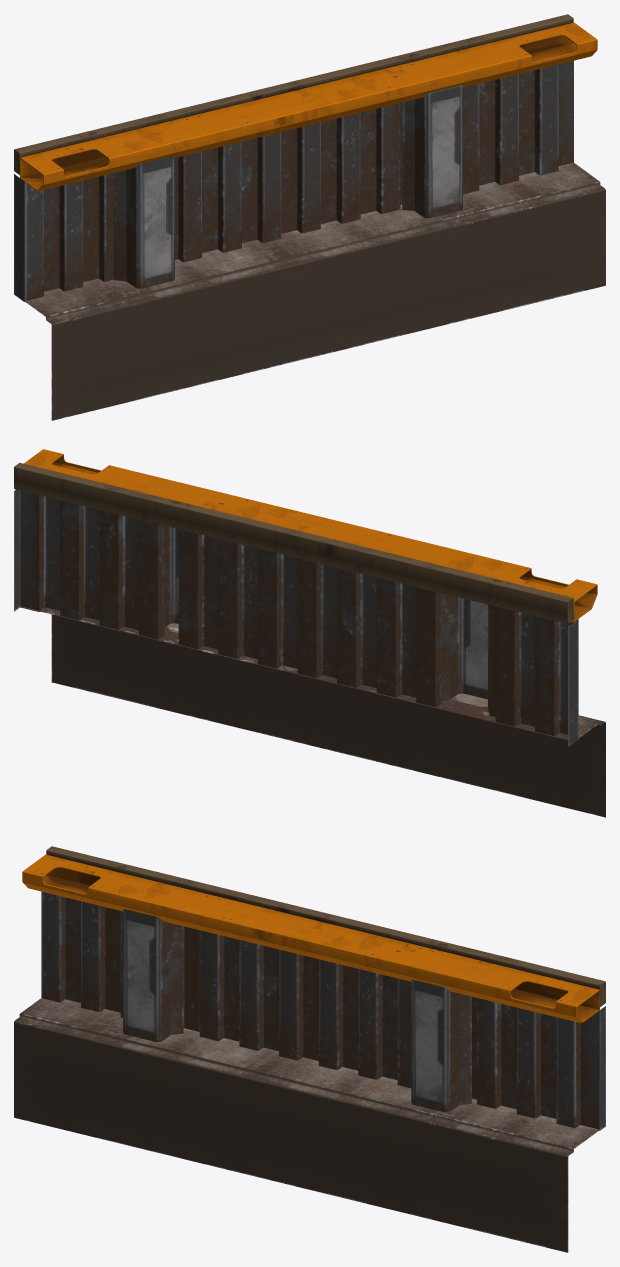
The model's file is SM_HangarFloor01.fbx.
3 views of the same model, one above another, from view 1: azimuth 30°, elevation 25°; view 2: azimuth 150°, elevation 25°; view 3: azimuth 330°, elevation 25° (orthographic).
Visible parts, largest first — view 1: SM_HangarFloor01_LOD0; view 2: SM_HangarFloor01_LOD0; view 3: SM_HangarFloor01_LOD0.
Part boxes in pixels (x1,y1,x2,y2): SM_HangarFloor01_LOD0: (14, 14, 605, 420); SM_HangarFloor01_LOD0: (14, 449, 605, 817); SM_HangarFloor01_LOD0: (14, 846, 605, 1252).
Size of the model in its own units: 550 by 65.79 by 231.
1 material, 1 textured.
